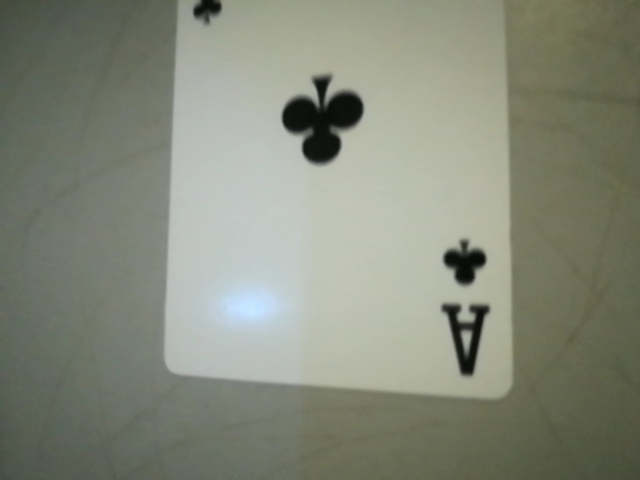mh a: (420, 220, 504, 390)
